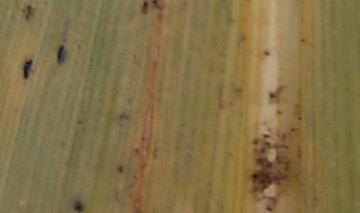tarspot: (248, 171, 273, 193), (139, 1, 162, 19), (53, 45, 69, 66), (267, 83, 284, 101), (21, 4, 37, 22), (22, 58, 33, 81), (255, 156, 273, 170), (256, 194, 276, 203), (72, 198, 84, 213), (270, 173, 288, 183), (273, 143, 290, 151), (252, 146, 265, 154), (283, 159, 291, 172), (261, 48, 270, 58), (263, 140, 272, 149), (261, 132, 272, 139), (239, 33, 246, 44), (264, 205, 273, 213), (288, 127, 297, 134), (251, 138, 259, 145), (274, 108, 283, 114), (295, 115, 304, 121), (273, 154, 280, 161), (117, 164, 122, 173), (298, 36, 305, 42), (134, 146, 140, 153)
